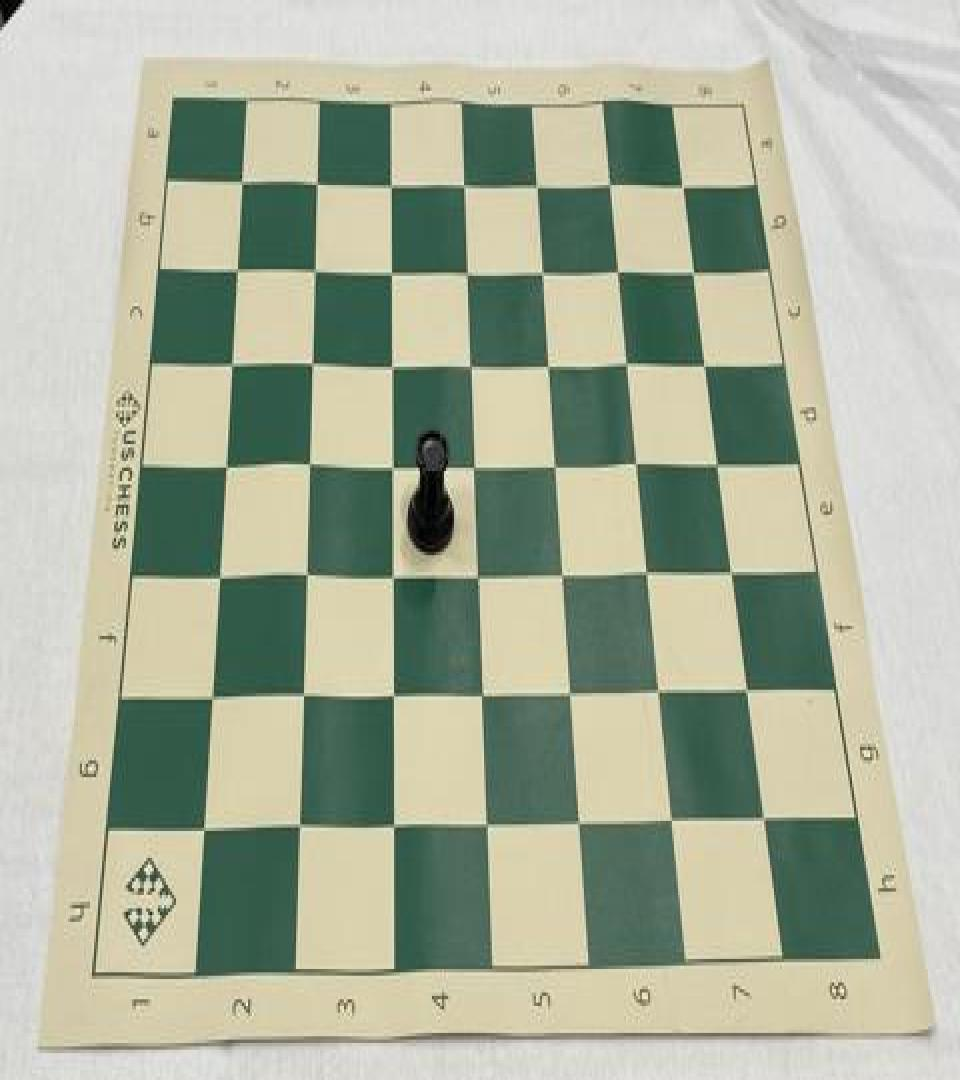xcorner: (674, 166, 696, 204), (685, 252, 707, 290), (610, 252, 632, 290), (534, 250, 556, 288), (458, 250, 480, 288), (478, 802, 500, 840), (601, 165, 623, 202), (528, 165, 550, 202), (455, 163, 477, 200), (381, 163, 403, 200), (231, 160, 253, 197), (381, 249, 403, 286), (304, 249, 326, 286), (697, 345, 719, 382), (619, 345, 641, 382), (540, 345, 562, 382), (461, 343, 483, 380), (382, 343, 404, 380), (301, 343, 323, 380), (220, 343, 242, 380), (710, 444, 732, 481), (629, 444, 651, 481), (547, 444, 569, 481), (465, 444, 487, 481), (382, 444, 404, 481), (299, 444, 321, 481), (214, 444, 236, 481), (382, 555, 404, 592), (296, 555, 318, 592), (208, 555, 230, 592), (651, 671, 673, 708), (562, 671, 584, 708), (473, 673, 495, 710), (383, 673, 405, 710), (292, 675, 314, 712), (201, 675, 223, 712), (663, 799, 685, 836), (571, 801, 593, 838), (383, 804, 405, 841), (289, 806, 311, 843), (193, 806, 215, 843), (306, 162, 328, 198), (226, 248, 248, 284), (723, 554, 745, 590), (639, 554, 661, 590), (554, 554, 576, 590), (469, 554, 491, 590), (738, 670, 760, 706), (755, 798, 777, 834)
